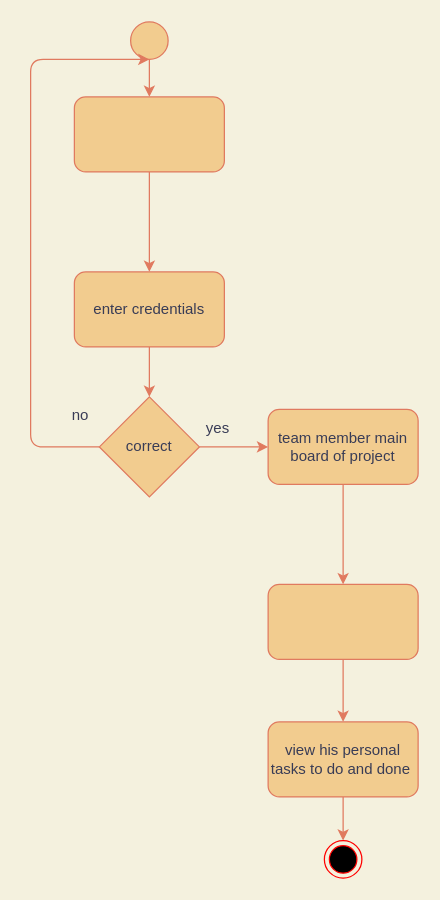
Image size: 440x900. Some labels were removed from this diagram. The shapes that lost their labels are listed below. From the top down, each one's box as (x1, y1, x2, y2) in pixels, then its label:
(73, 96, 224, 172): login page
(267, 583, 418, 659): access tasks
